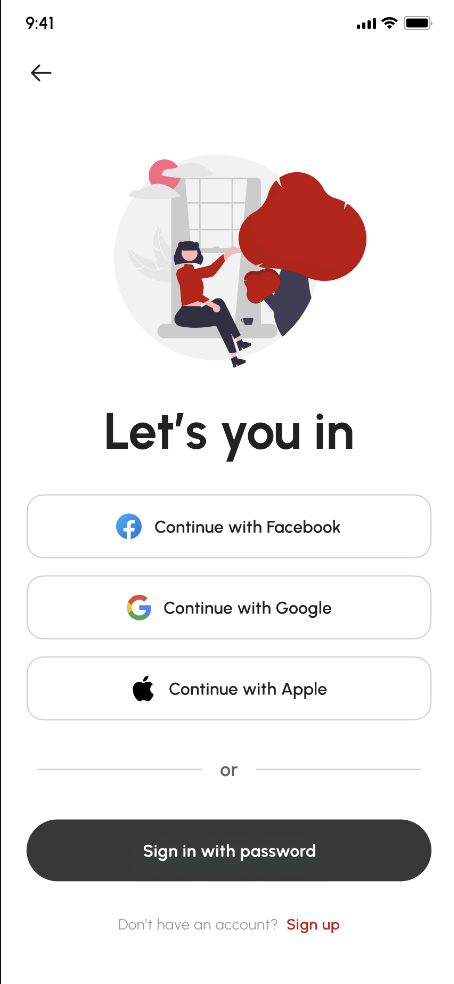Button: (25, 490, 432, 561), (24, 654, 431, 722), (25, 574, 434, 641), (25, 817, 433, 883)
IconButton: (27, 59, 54, 87)
